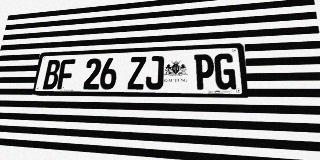2: (83, 58, 102, 89)
6: (99, 57, 118, 89)
B: (43, 60, 61, 89)
F: (57, 59, 75, 89)
G: (214, 53, 236, 90)
J: (145, 56, 164, 89)
P: (194, 54, 214, 90)
Z: (127, 56, 146, 89)
